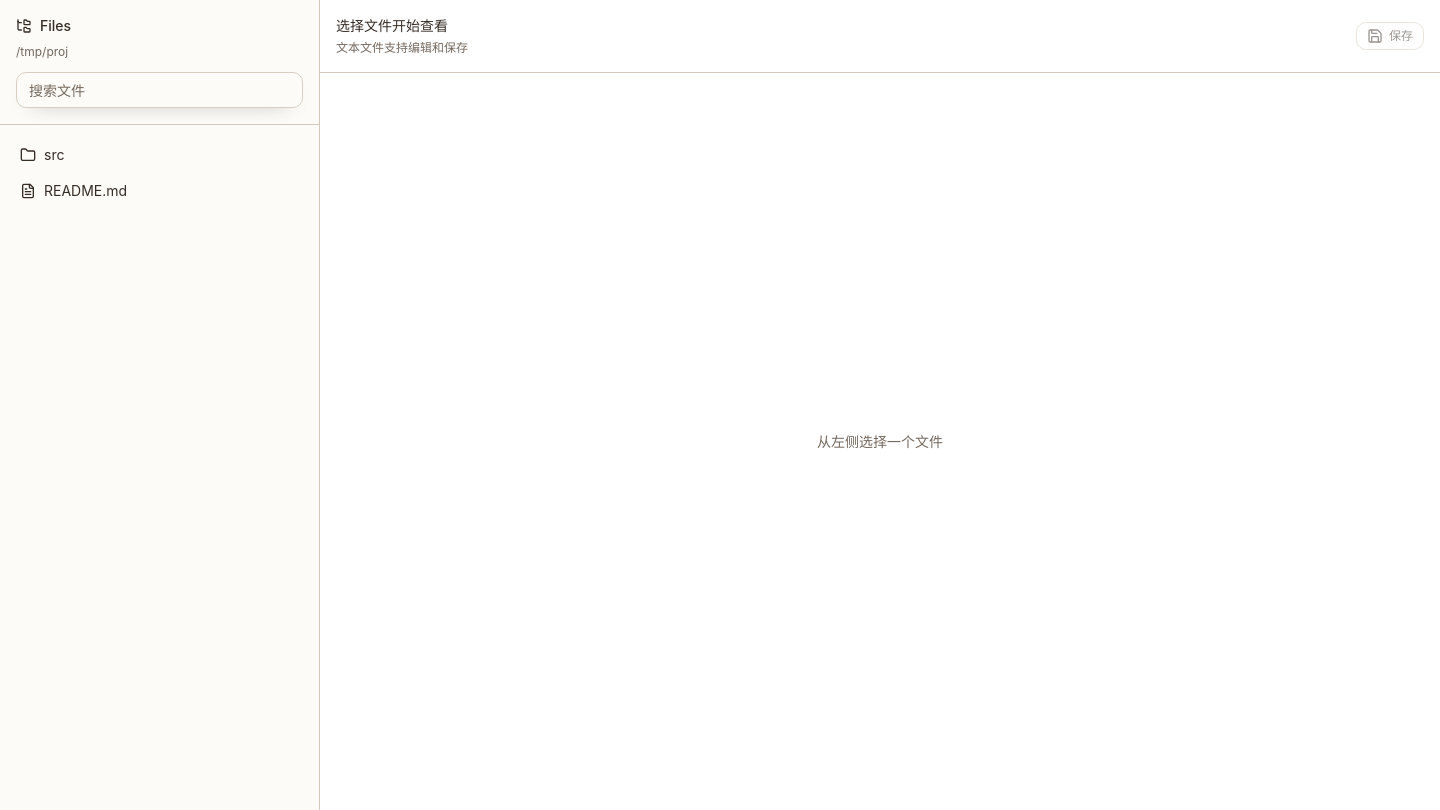
Scenario: Workspace panels › 搜索会 trim + lowercase，并在命中后自动展开祖先目录，清空后恢复完整树
Expected: the text "README.md" is shown, x1=44 y1=181 x2=127 y2=201
Step 1. Click the button "src" → (28, 155), box x1=8 y1=137 x2=311 y2=173
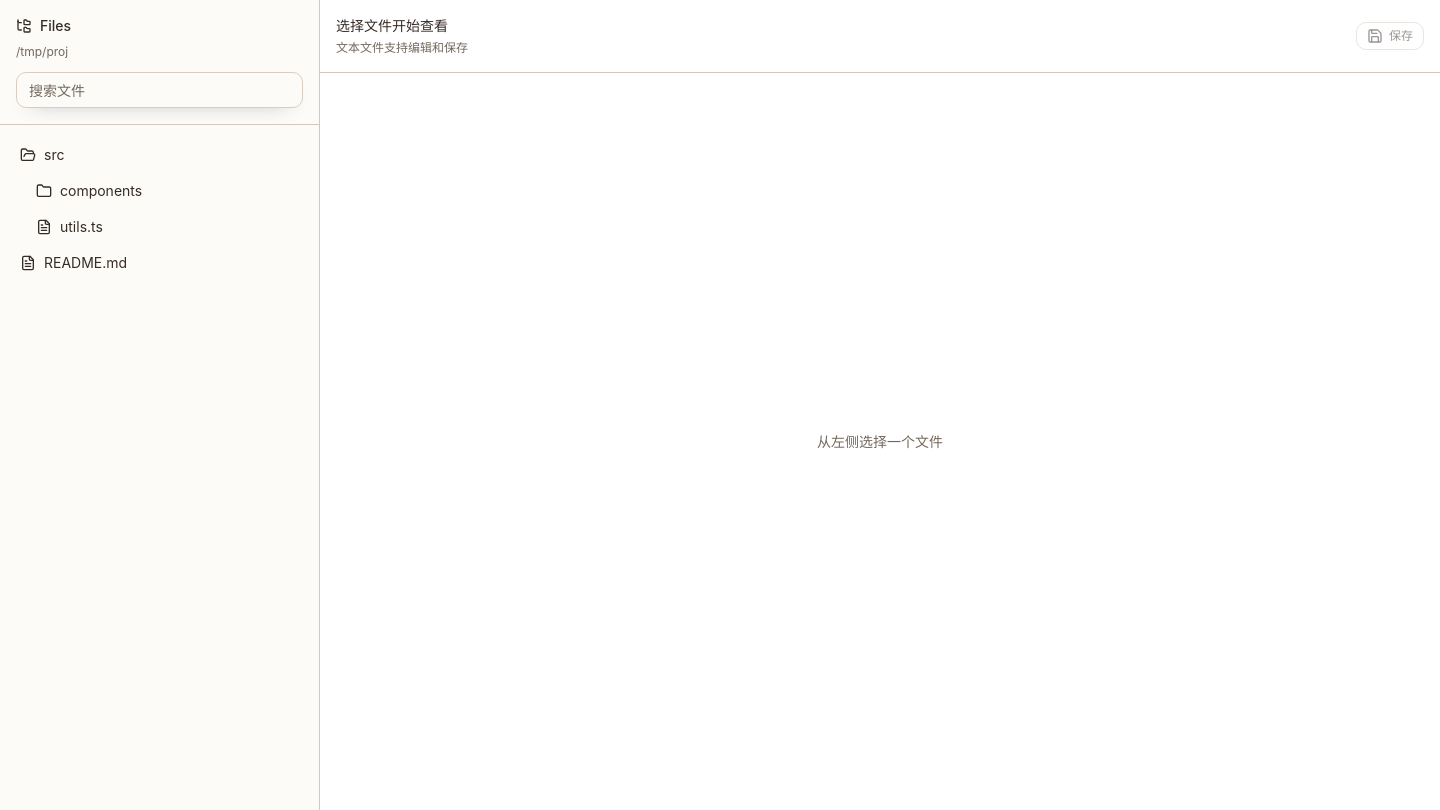
Now the text "components" is shown, box x1=60 y1=181 x2=142 y2=201
Step 2. Click the button "components" → (101, 190), box x1=8 y1=173 x2=311 y2=209
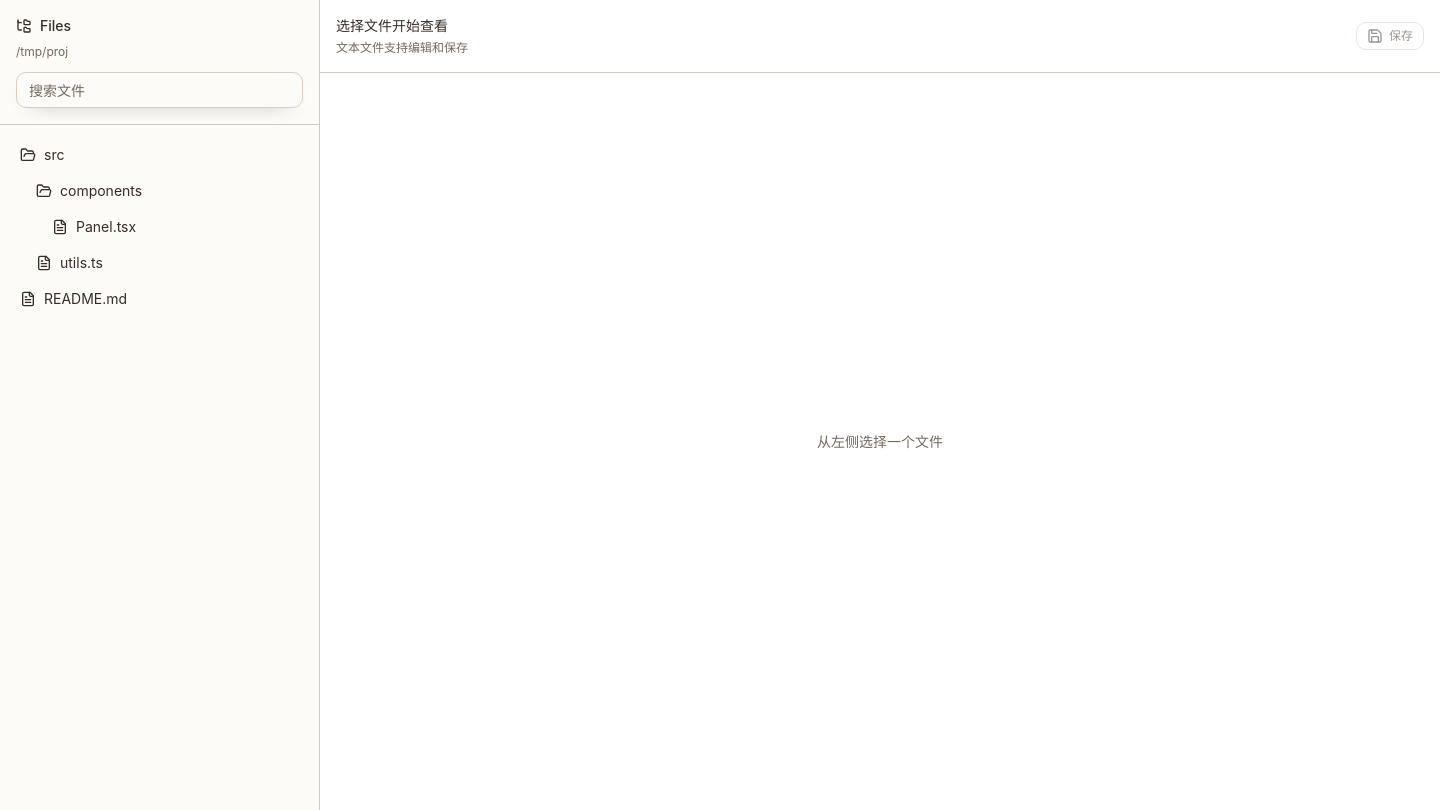
Now the text "Panel.tsx" is shown, box x1=76 y1=217 x2=136 y2=237
Step 3. Click the button "components" → (101, 190), box x1=8 y1=173 x2=311 y2=209
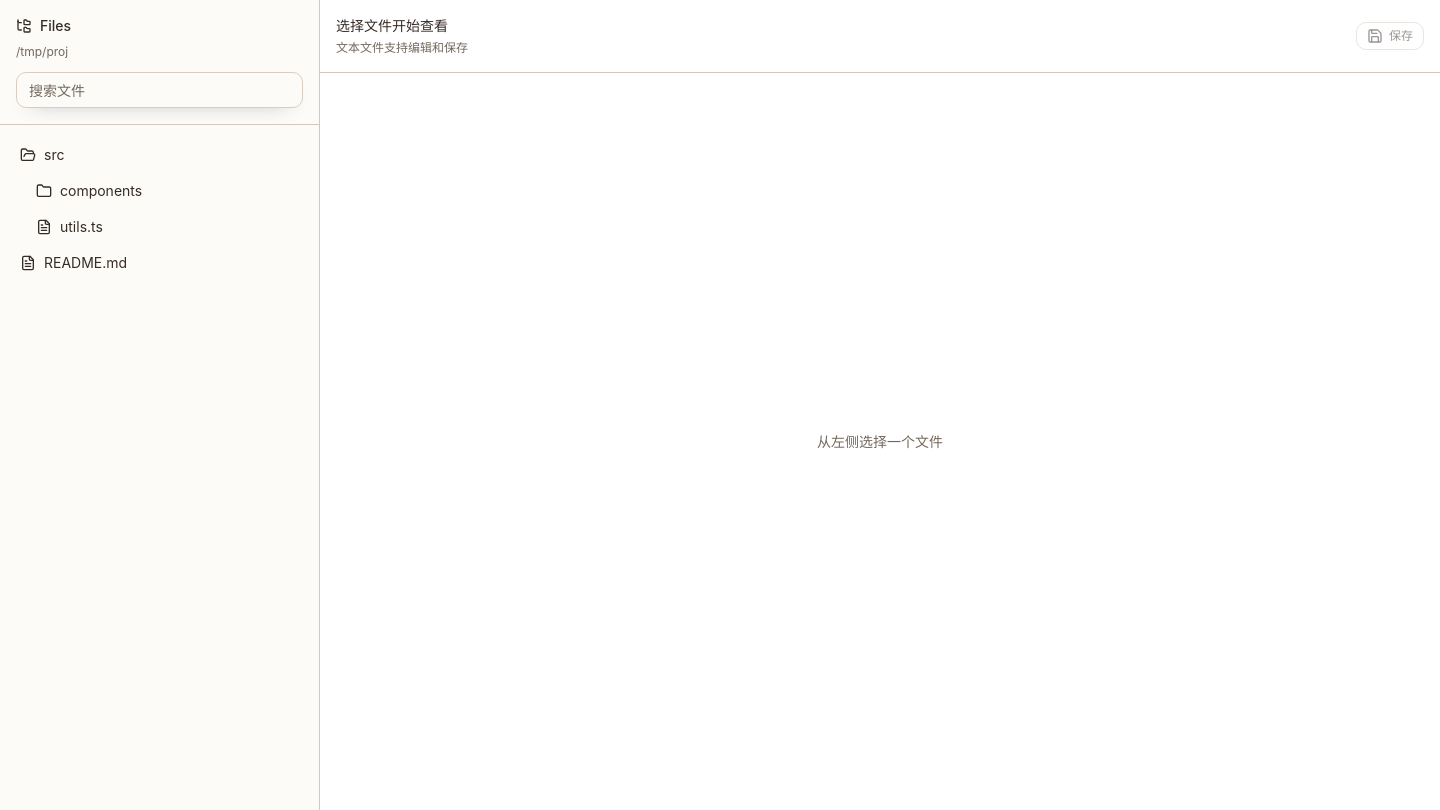
Now the button "Panel.tsx" is gone
Step 4. Click the button "src" → (28, 155), box x1=8 y1=137 x2=311 y2=173
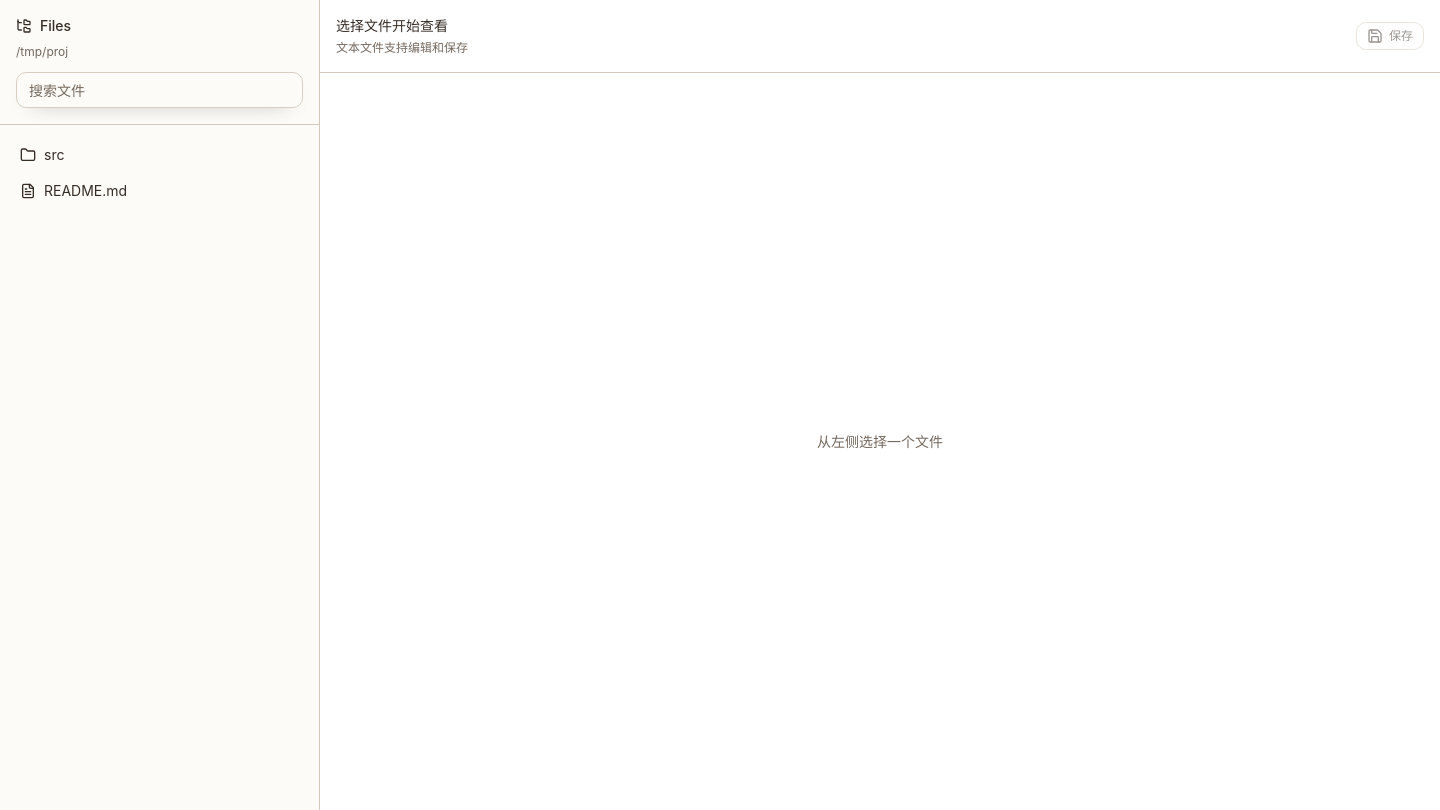
Now the button "components" is gone
Step 5. Type "  PANEL  " into the field with placeholder "搜索文件" → (160, 90), box x1=16 y1=72 x2=303 y2=108
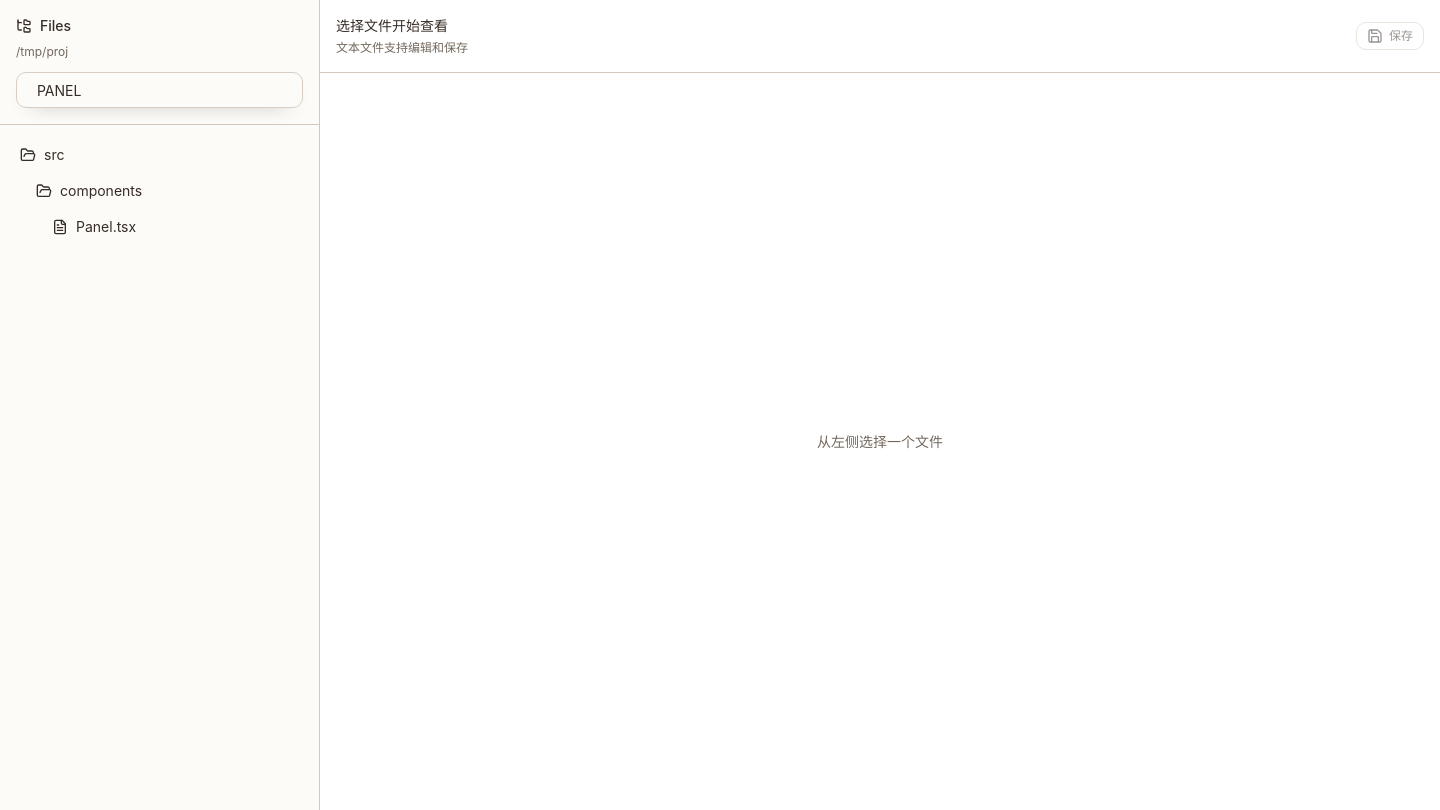
Expected: the text "src" is shown, x1=44 y1=145 x2=64 y2=165
Now the text "Panel.tsx" is shown, box x1=76 y1=217 x2=136 y2=237
Now the text "components" is shown, box x1=60 y1=181 x2=142 y2=201
Step 6. Clear the field with placeholder "搜索文件" → (160, 90), box x1=16 y1=72 x2=303 y2=108
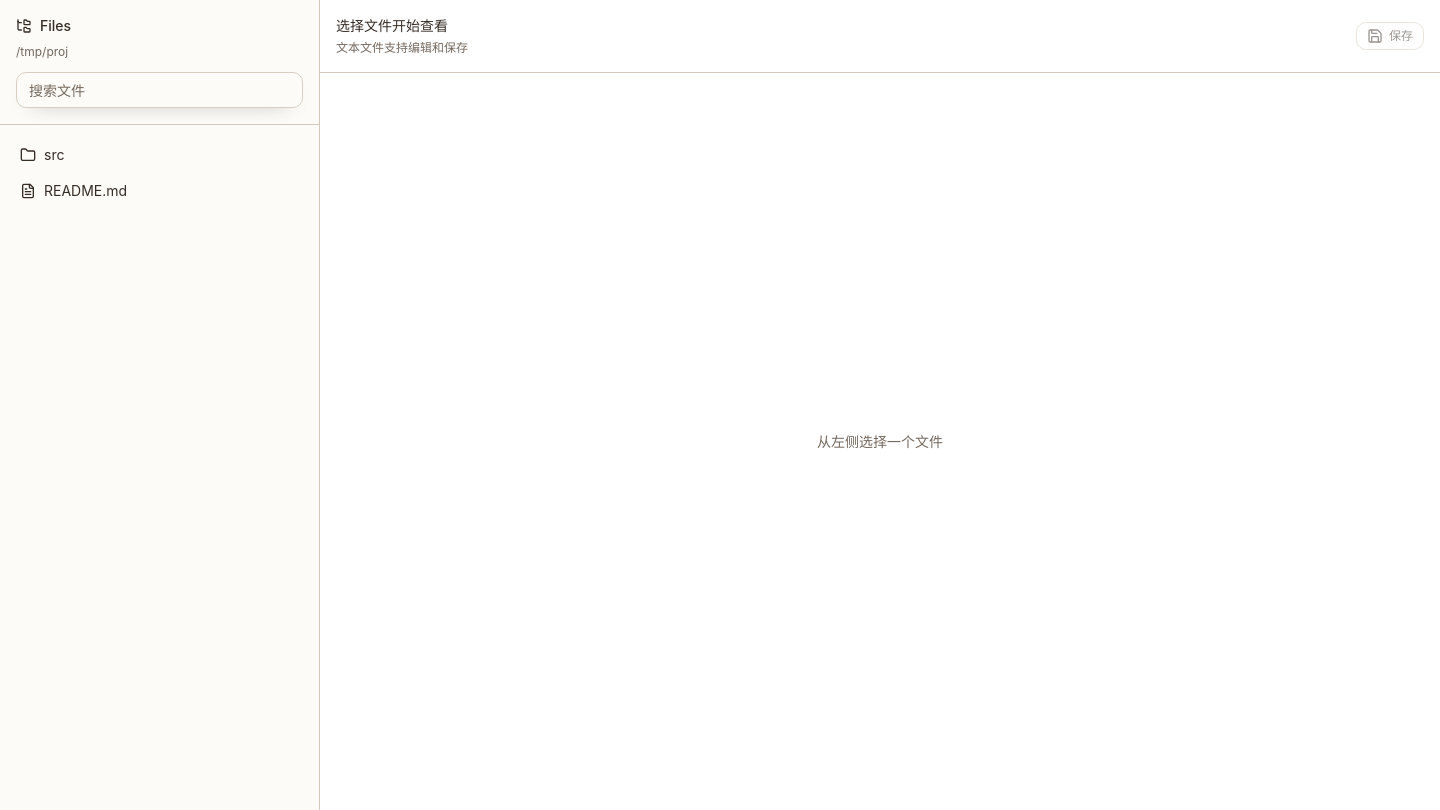
Now the text "README.md" is shown, box x1=44 y1=181 x2=127 y2=201
Now the button "components" is gone
Now the button "Panel.tsx" is gone
